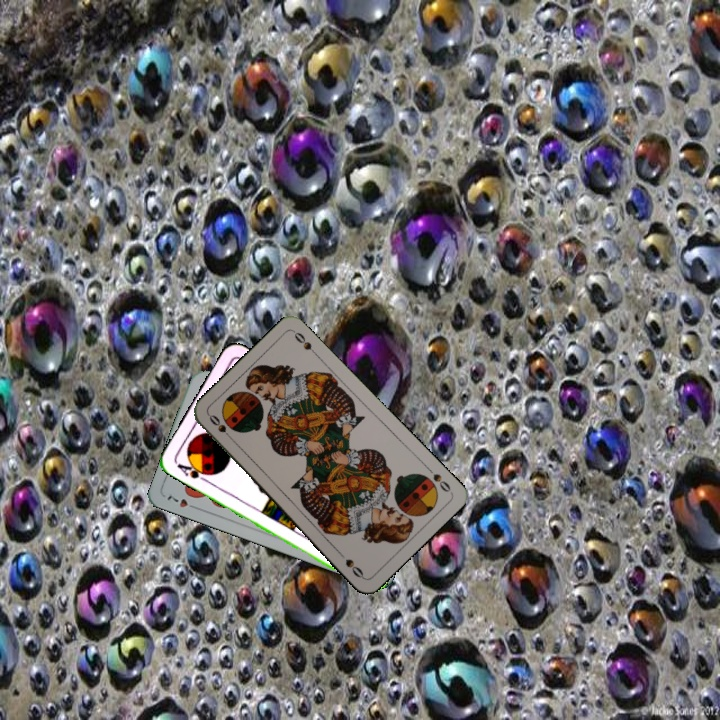H7: (163, 490, 201, 512)
SA: (173, 458, 213, 484)
SO: (205, 410, 236, 444), (422, 462, 453, 495)
